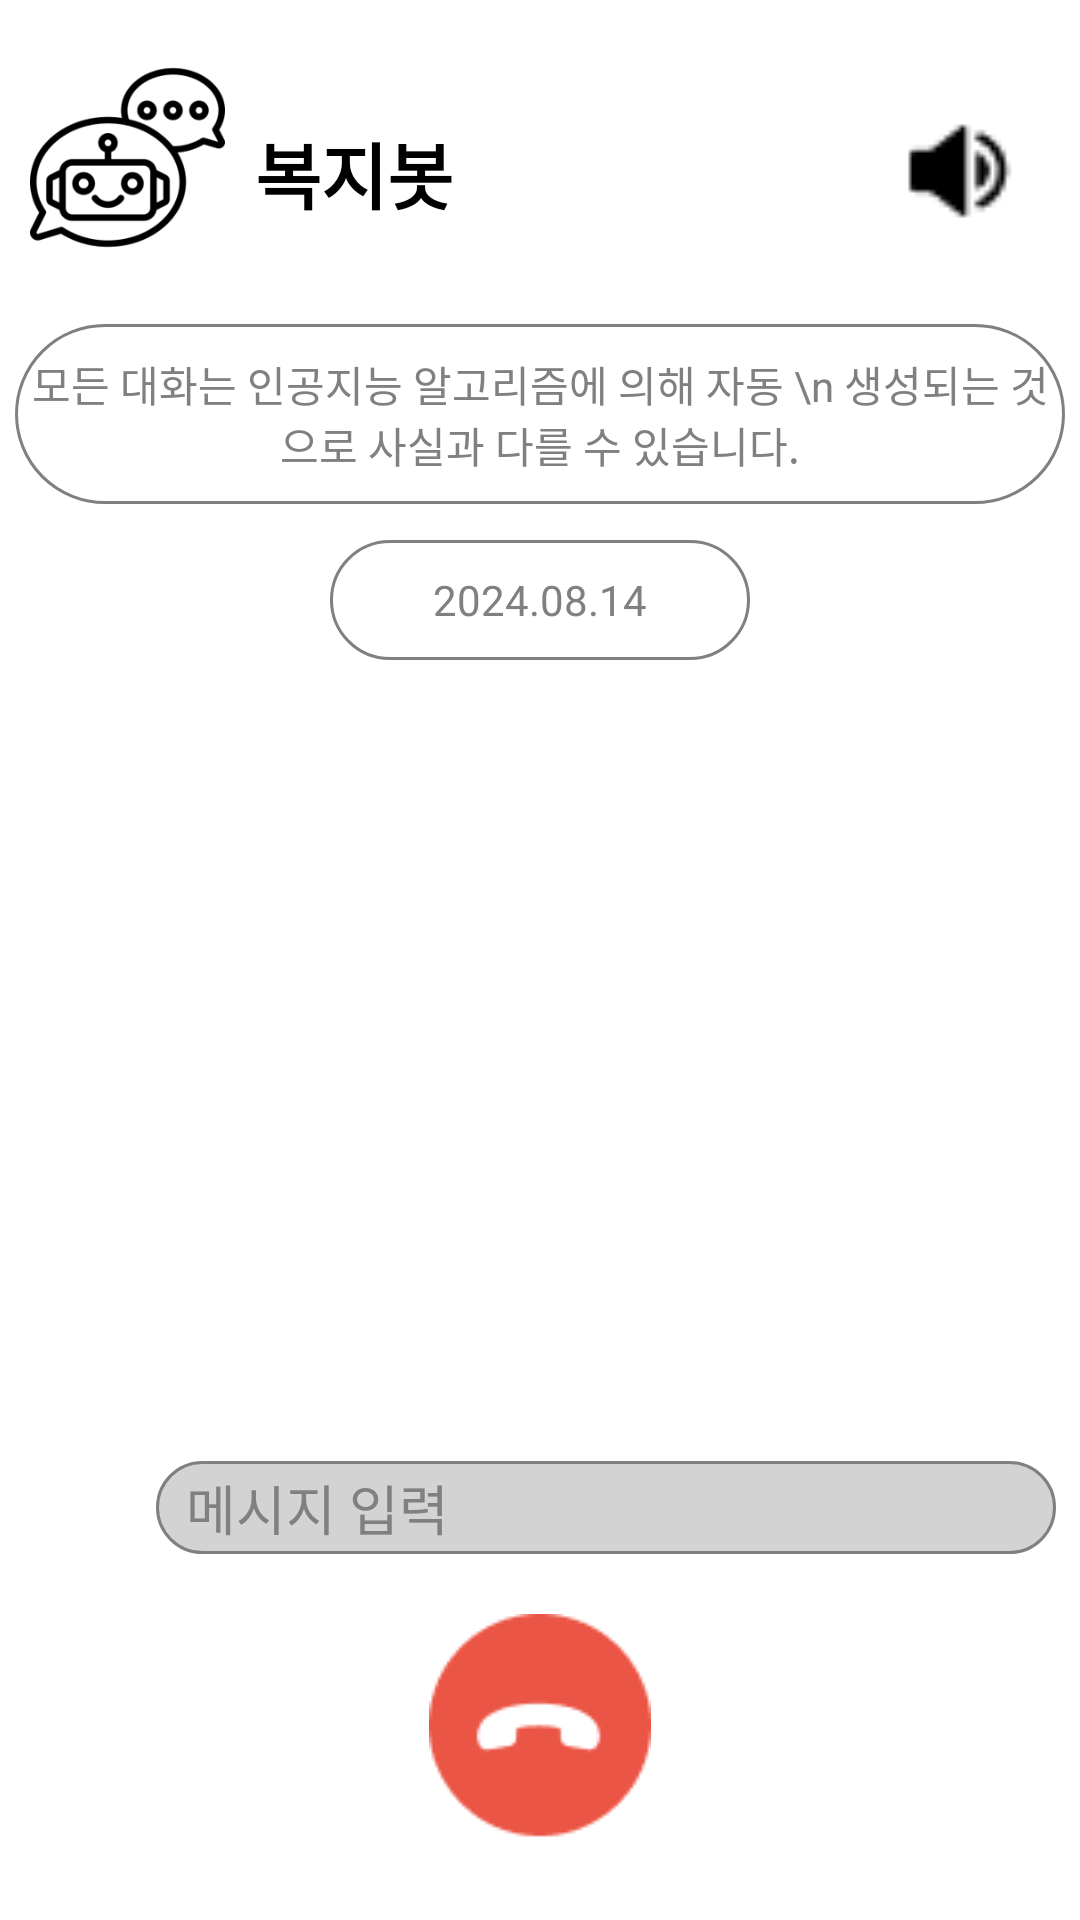

Screen size 1080x1920. Icon name, then its box in pixels as (x1=x1, y1=y1, x2=x2, y2=y2):
decline: (x1=429, y1=1614, x2=651, y2=1837)
